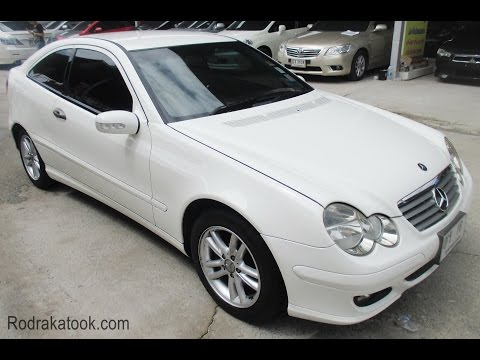sedan: (7, 28, 473, 321)
